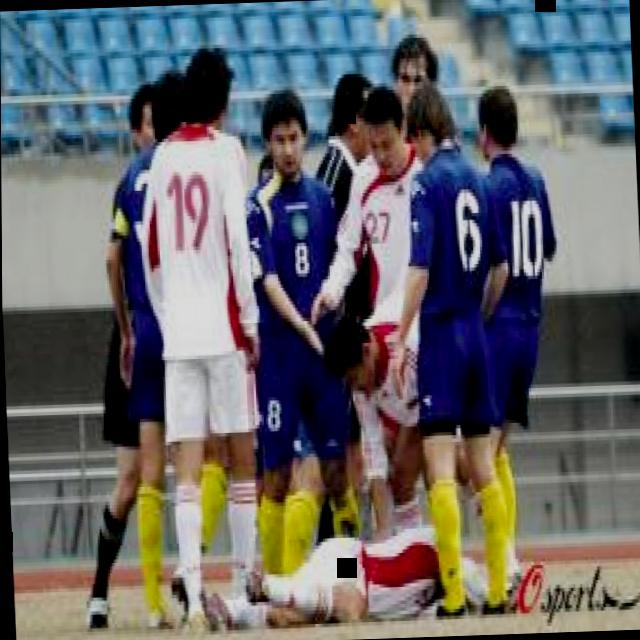Fall-Detected: (185, 481, 495, 635)
